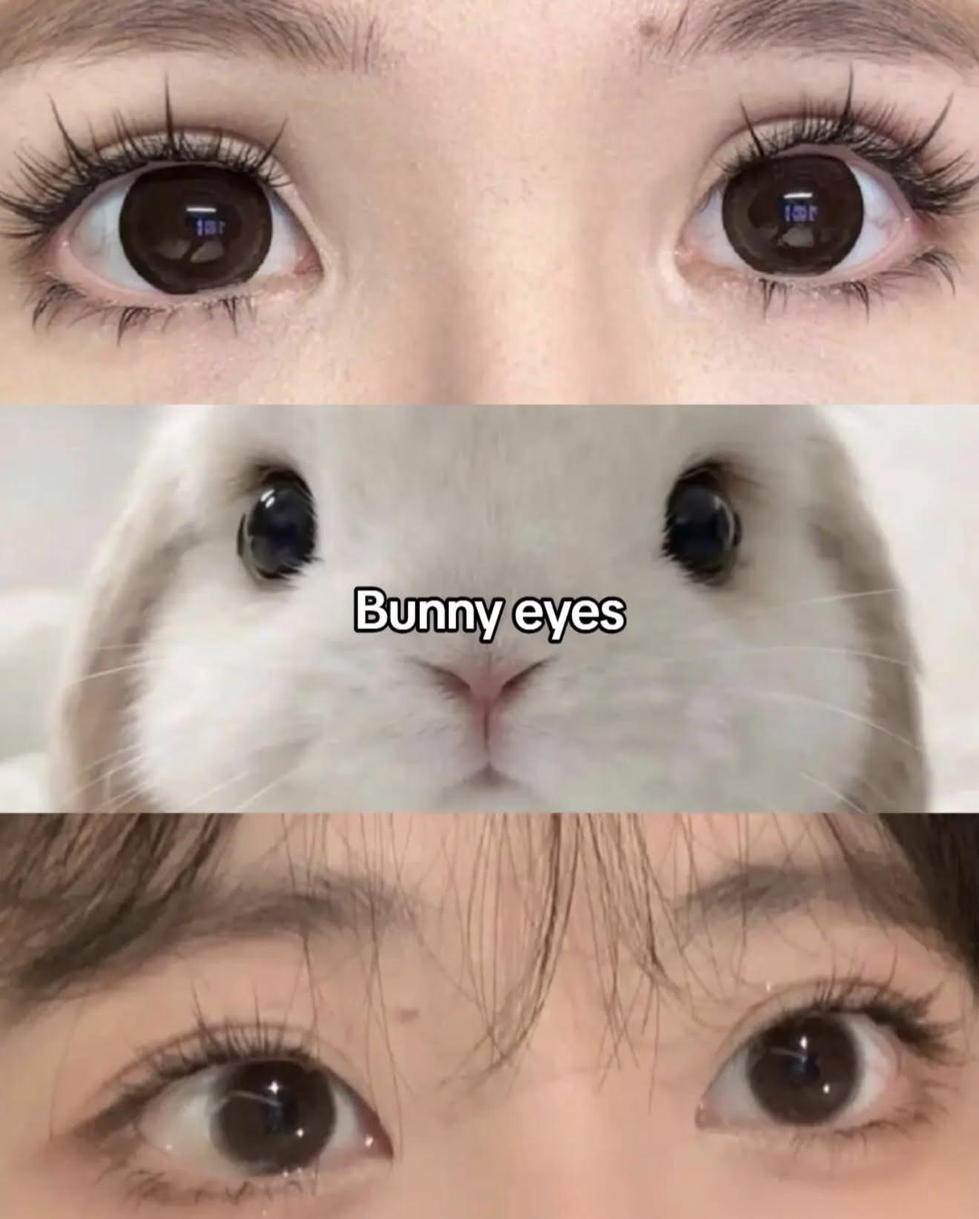non-dog: (1, 407, 937, 812)
